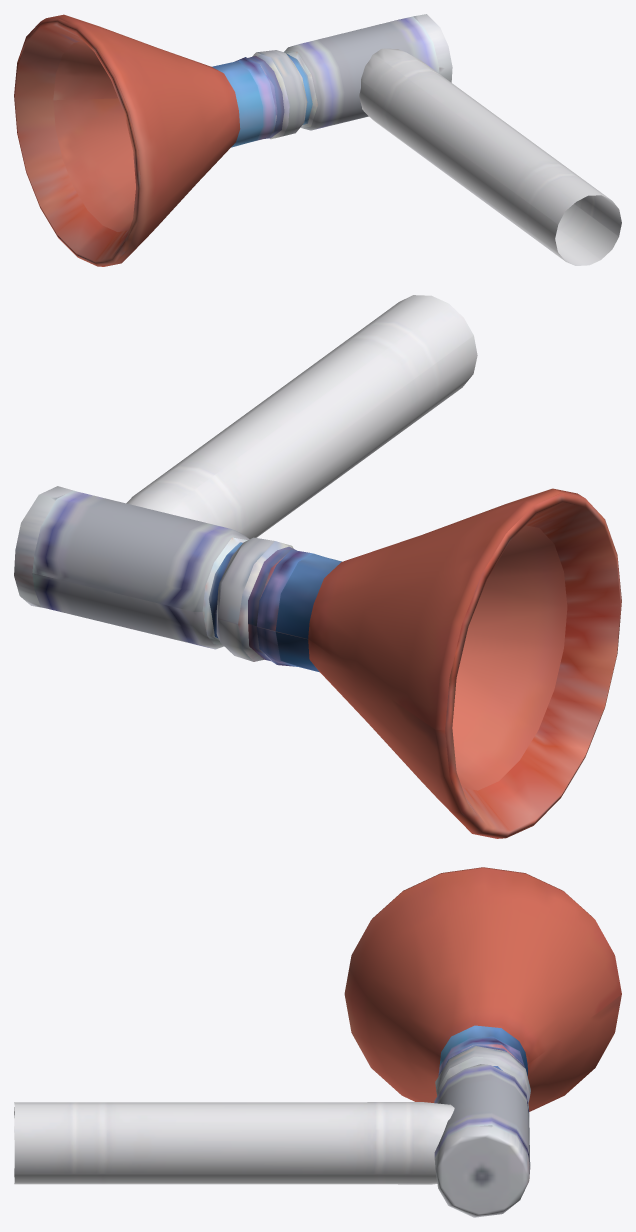
Rendered from XIYOUQI.glb.
3 views of the same model, one above another, from view 1: azimuth 30°, elevation 25°; view 2: azimuth 150°, elevation 25°; view 3: azimuth 270°, elevation 25° (orthographic). The views are drawn at different scales.
Parts seen in each view (by area): view 1: StaticMesh; view 2: StaticMesh; view 3: StaticMesh.
Boxes of the visible parts, x1,y1,x2,y2 form: StaticMesh: (14,14,621,266); StaticMesh: (14,295,621,838); StaticMesh: (14,867,621,1217).
Size of the model in its own units: 2.07 by 1.3 by 2.85.
Materials: 3 (3 with a texture image).
